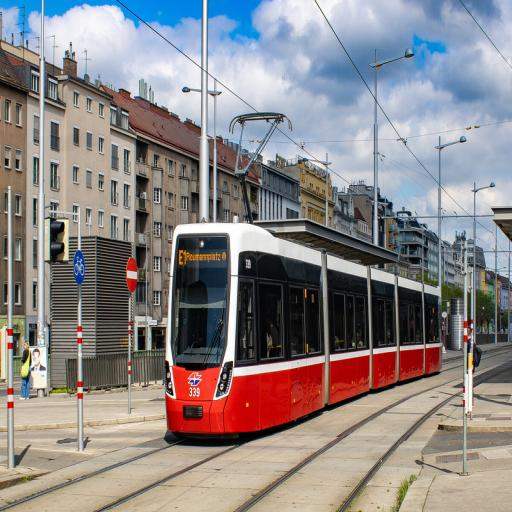Flexity: (162, 230, 443, 434)
